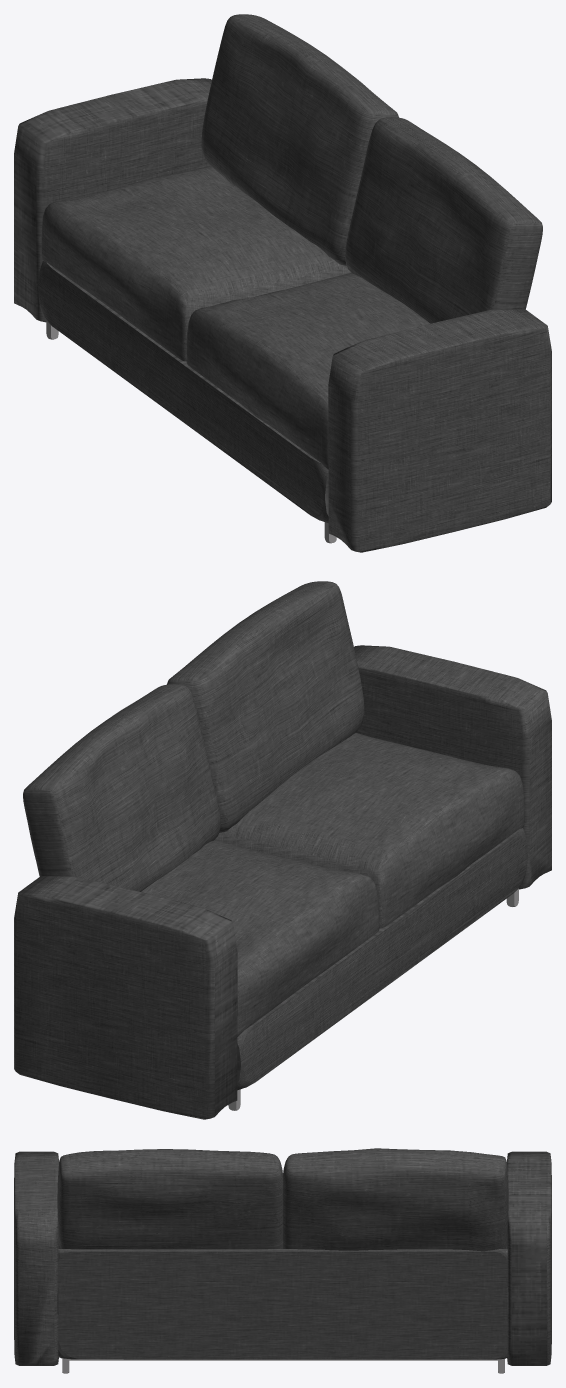
Rendered from archive-sofa.glb.
3 views of the same model, one above another, from view 1: azimuth 30°, elevation 25°; view 2: azimuth 150°, elevation 25°; view 3: azimuth 270°, elevation 25° (orthographic). The views are drawn at different scales.
Parts seen in each view (by area): view 1: Object_4; view 2: Object_4; view 3: Object_4.
Boxes of the visible parts, x1=… form: Object_4: x1=14, y1=14, x2=551, y2=552; Object_4: x1=14, y1=581, x2=551, y2=1119; Object_4: x1=14, y1=1148, x2=551, y2=1373.
Size of the model in its own units: 0.936 by 1.1 by 2.38.
Materials: 1 (1 with a texture image).
